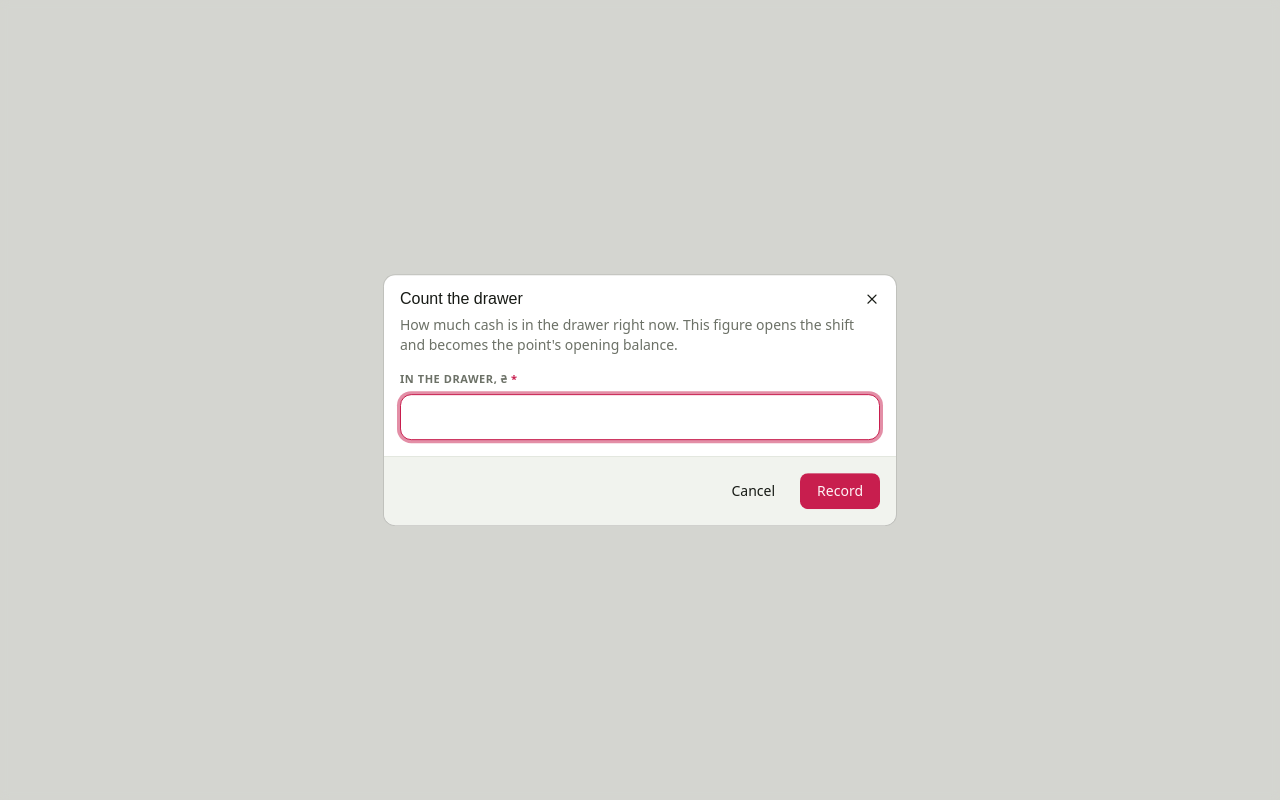
CountDrawerDialog › refuses to submit an empty drawer count
This screenshot has width=1280, height=800.
Step 1. Click the button "Record" → [840, 491], box [800,473,880,509]
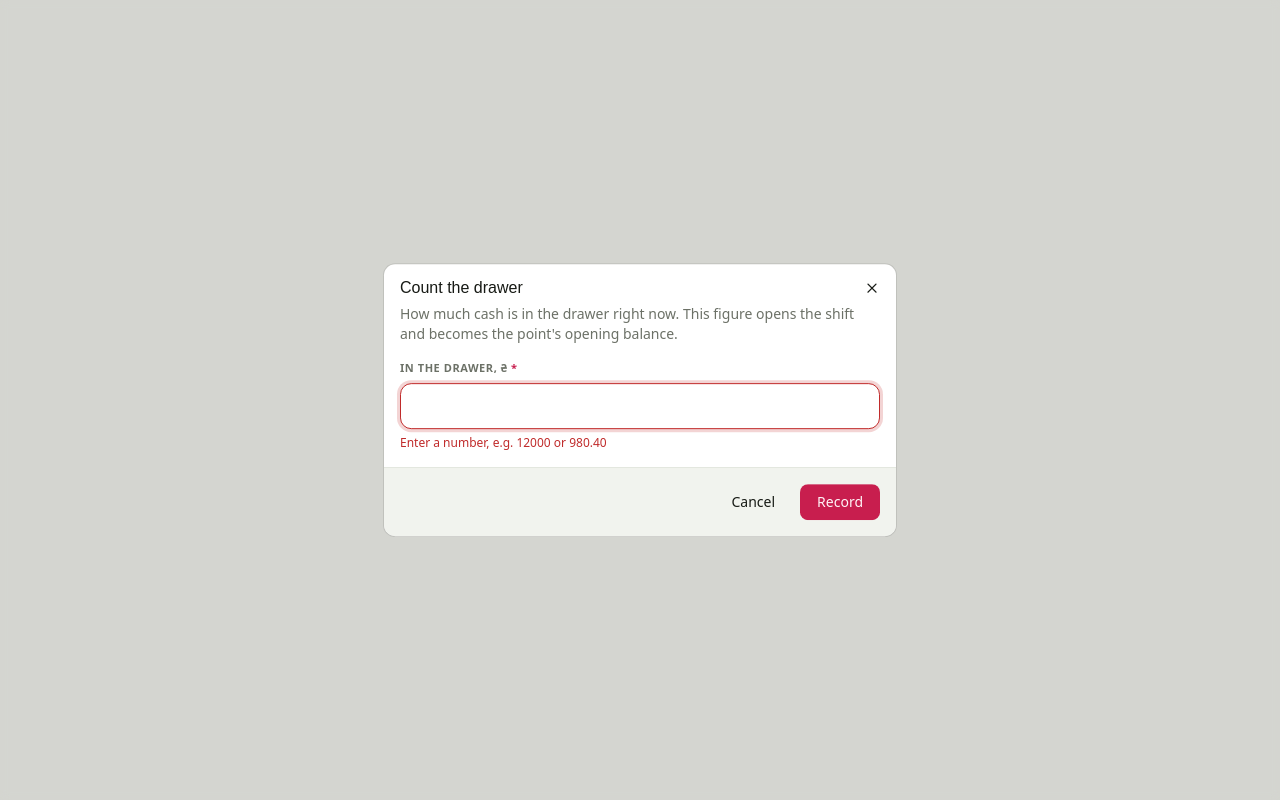
Result: the message "Enter a number, e.g. 12000 or 980.40" is shown at [400,434,607,451]
